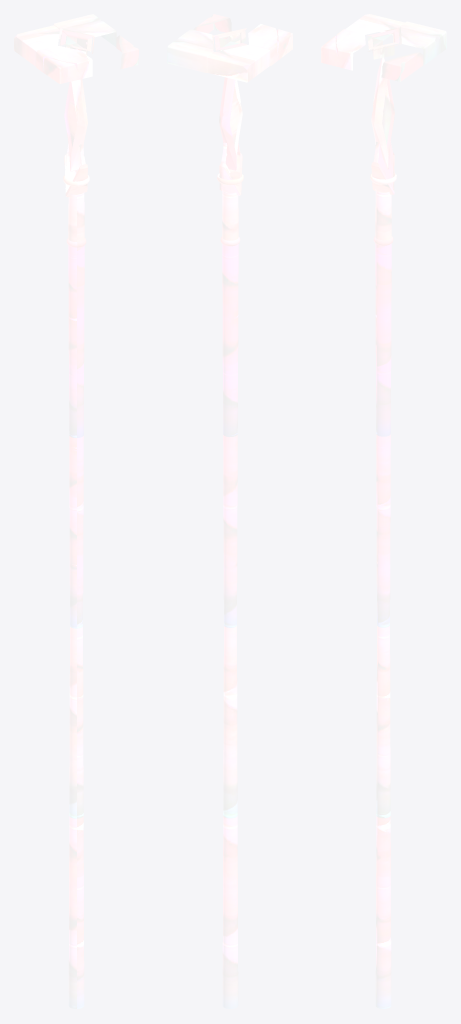
3 views of the same model, side by side, from view 1: azimuth 30°, elevation 25°; view 2: azimuth 150°, elevation 25°; view 3: azimuth 330°, elevation 25° (orthographic).
Parts seen in each view (by area): view 1: SM_SpikeyPlant_01_LOD0; view 2: SM_SpikeyPlant_01_LOD0; view 3: SM_SpikeyPlant_01_LOD0.
Part boxes in pixels (bbox=[...]): SM_SpikeyPlant_01_LOD0: bbox=[14, 14, 138, 1008]; SM_SpikeyPlant_01_LOD0: bbox=[167, 14, 292, 1008]; SM_SpikeyPlant_01_LOD0: bbox=[321, 14, 446, 1008].
Bounding box in the file's own units: 0.5127 × 5.85 × 0.5123.
